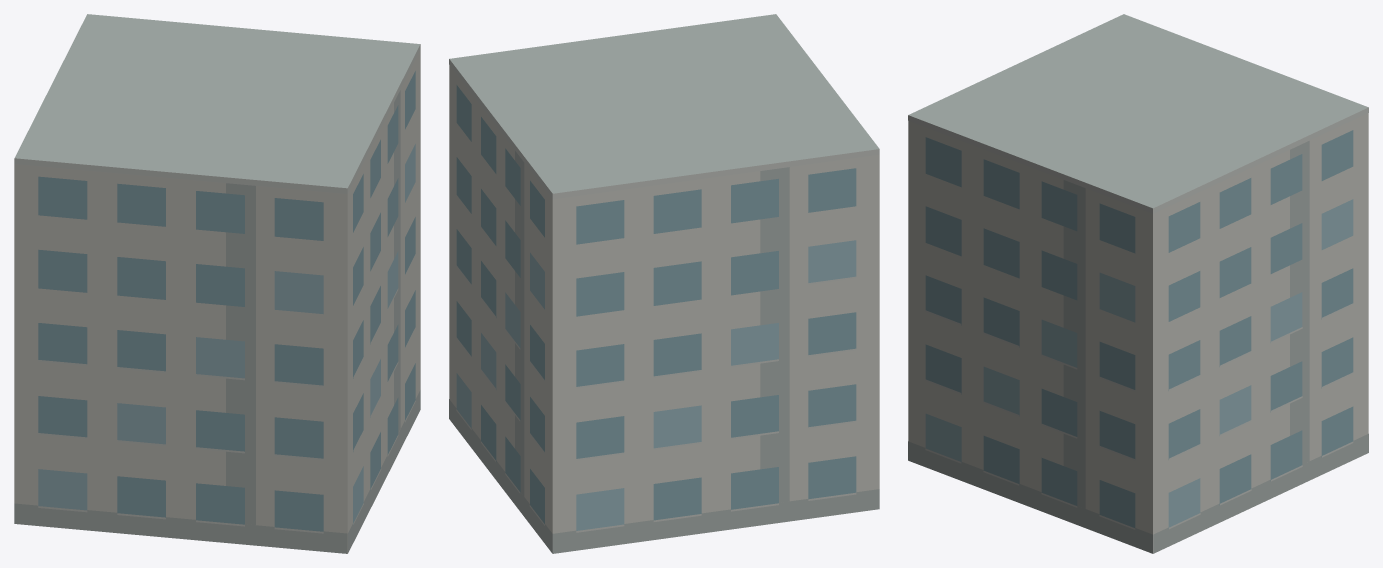
Rendered from residential-5608b2c4-cc6c-4fd9-8f0e-7d60639fffc8.glb.
3 views of the same model, side by side, from view 1: azimuth 30°, elevation 25°; view 2: azimuth 150°, elevation 25°; view 3: azimuth 270°, elevation 25° (orthographic). The views are drawn at different scales.
Parts seen in each view (by area): view 1: residential-5608b2c4-cc6c-4fd9-8f0e-7d60639fffc8.tmp; view 2: residential-5608b2c4-cc6c-4fd9-8f0e-7d60639fffc8.tmp; view 3: residential-5608b2c4-cc6c-4fd9-8f0e-7d60639fffc8.tmp.
Part boxes in pixels (x1,y1,x2,y2): residential-5608b2c4-cc6c-4fd9-8f0e-7d60639fffc8.tmp: [14, 14, 420, 553]; residential-5608b2c4-cc6c-4fd9-8f0e-7d60639fffc8.tmp: [449, 14, 879, 553]; residential-5608b2c4-cc6c-4fd9-8f0e-7d60639fffc8.tmp: [908, 14, 1368, 553].
Bounding box in the file's own units: 18.41 × 15.25 × 18.43.
